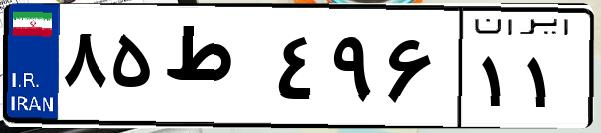1: (475, 38, 525, 113), (525, 38, 570, 115)
4: (270, 28, 330, 110)
5: (110, 28, 158, 98)
6: (385, 28, 445, 110)
8: (57, 26, 110, 100)
9: (330, 28, 385, 110)
ط: (158, 20, 270, 120)
